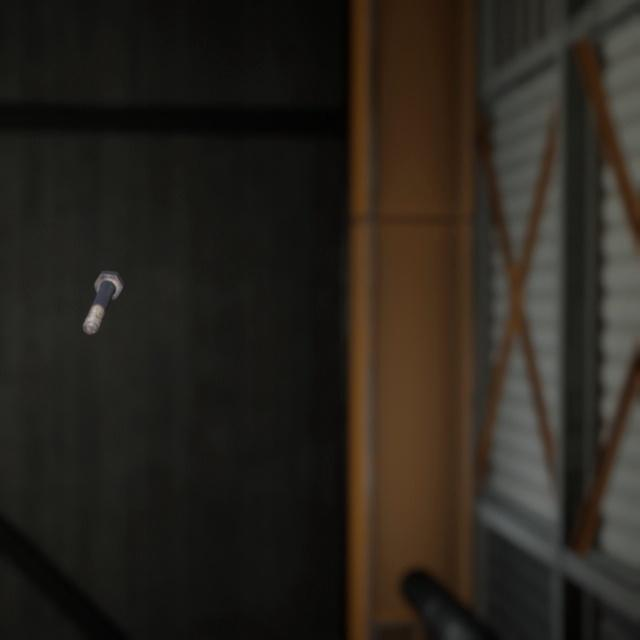bolt: (78, 249, 128, 321)
